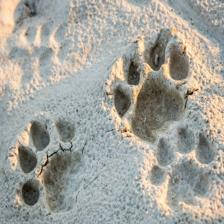coyote: (105, 35, 197, 124), (12, 117, 93, 217)
